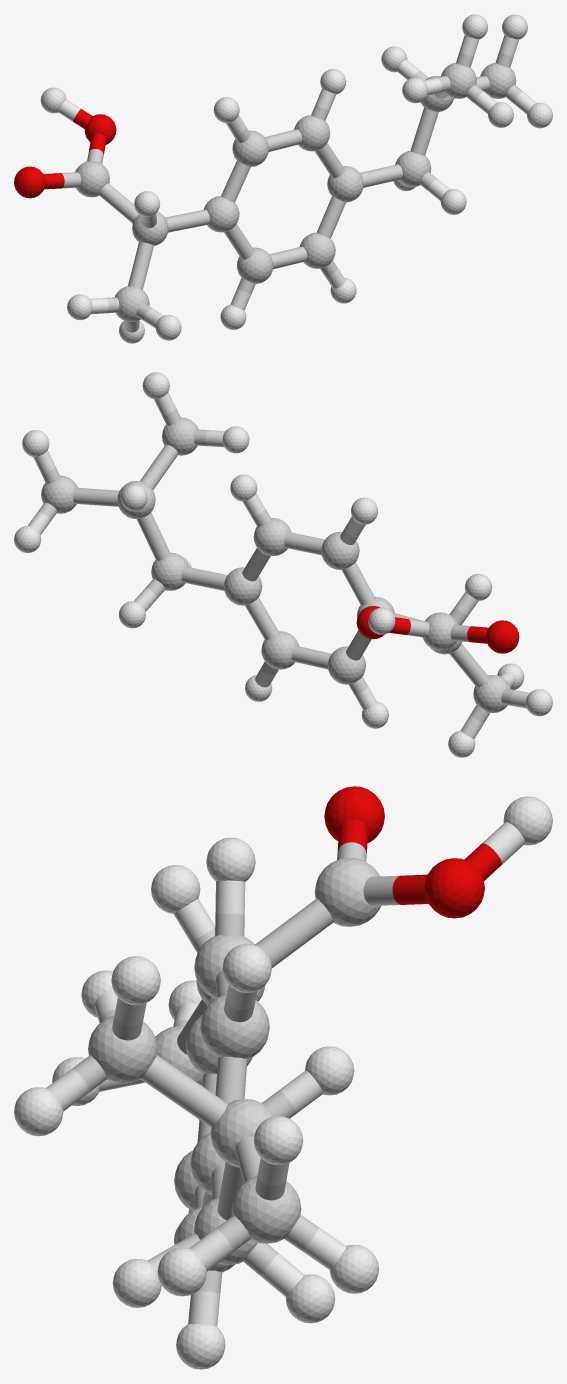
Rendered from ibuprofen.fbx.
3 renders of one model, top to bottom at view 1: azimuth 30°, elevation 25°; view 2: azimuth 150°, elevation 25°; view 3: azimuth 270°, elevation 25°, orthographic. The views are drawn at different scales.
Visible parts, largest first — view 1: ibuprofen; view 2: ibuprofen; view 3: ibuprofen.
Boxes of the visible parts, x1,y1,x2,y2 form: ibuprofen: (14,14,552,343); ibuprofen: (14,372,552,757); ibuprofen: (14,786,552,1369).
Bounding box in the file's own units: 10979 × 5811 × 5508.
